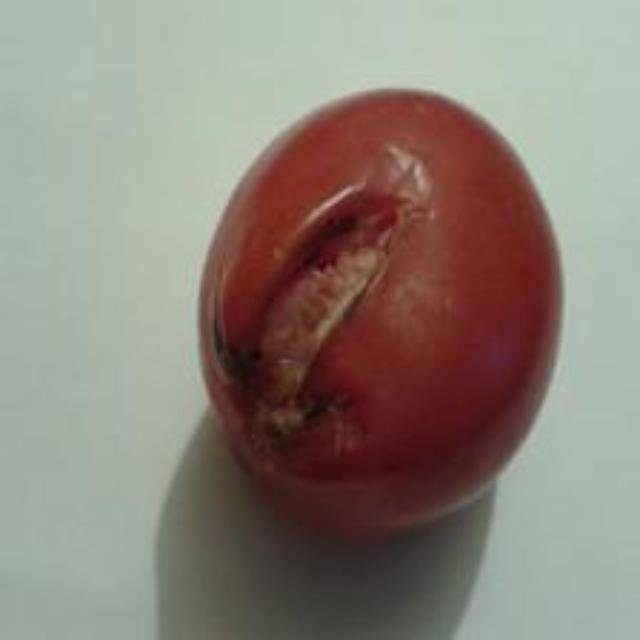defect: (191, 81, 568, 541)
